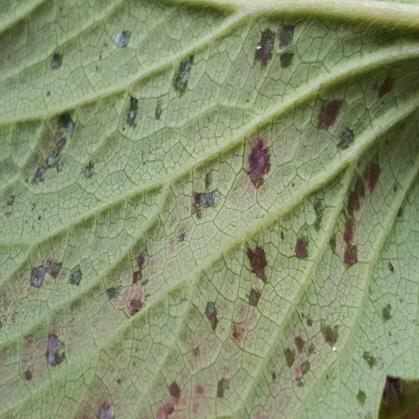Angular Leafspot: (0, 9, 418, 418)
